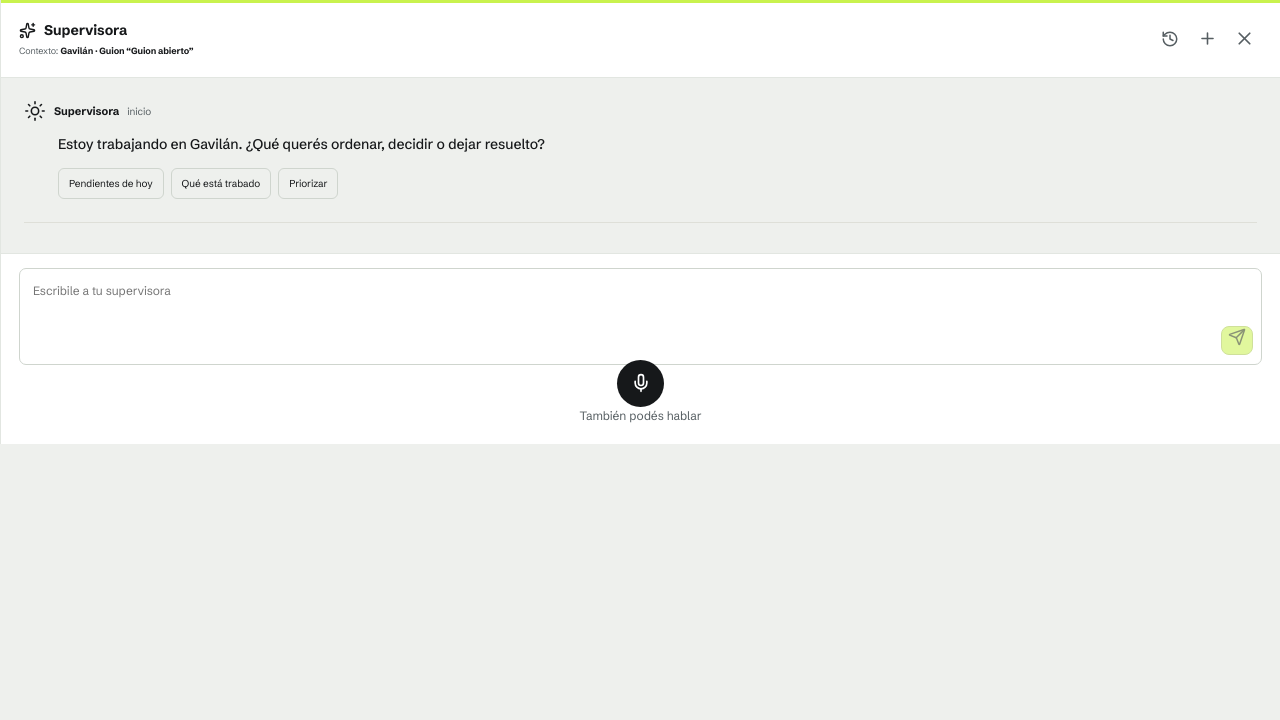
Scenario: AiDrawer chat contract › starts fresh by default and keeps Nueva conversación as a distinct thread
Type "Primera conversación" into the text box with test id "ai-input". click: (640, 313)
box: left=20, top=269, right=1261, bottom=357
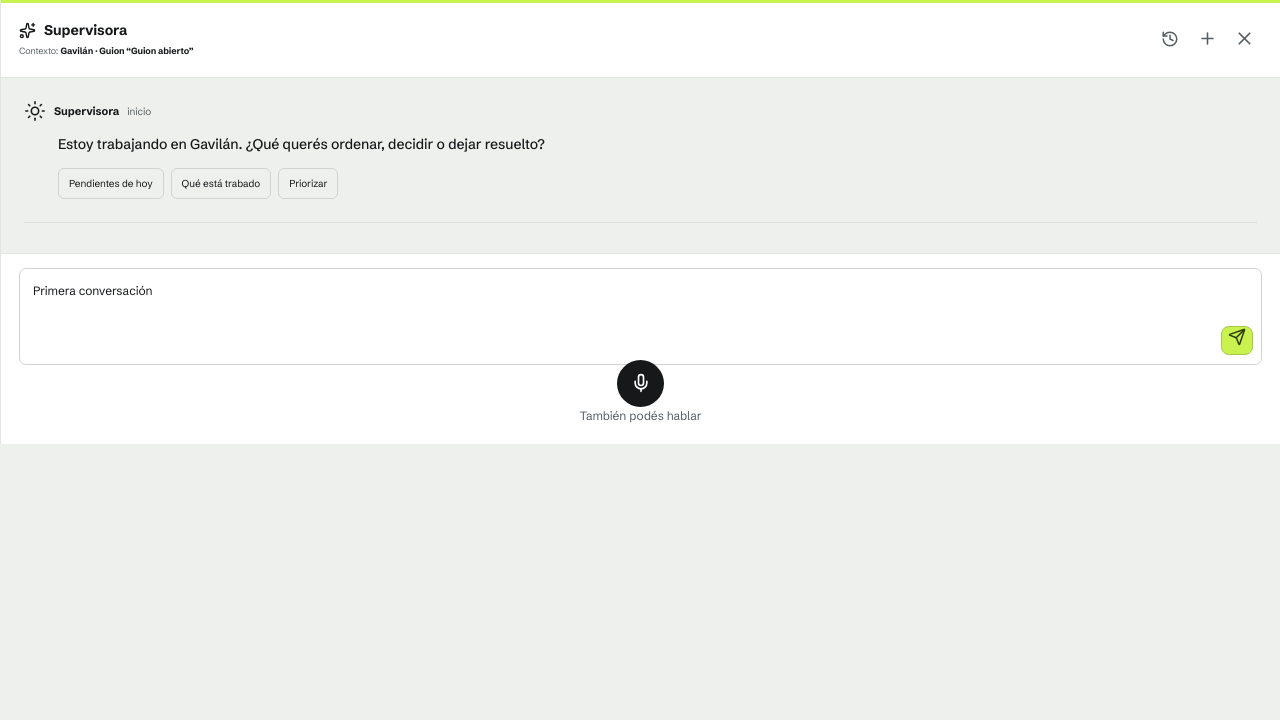
Click the button with test id "ai-send". click: click(1237, 341)
box: left=1221, top=326, right=1253, bottom=355
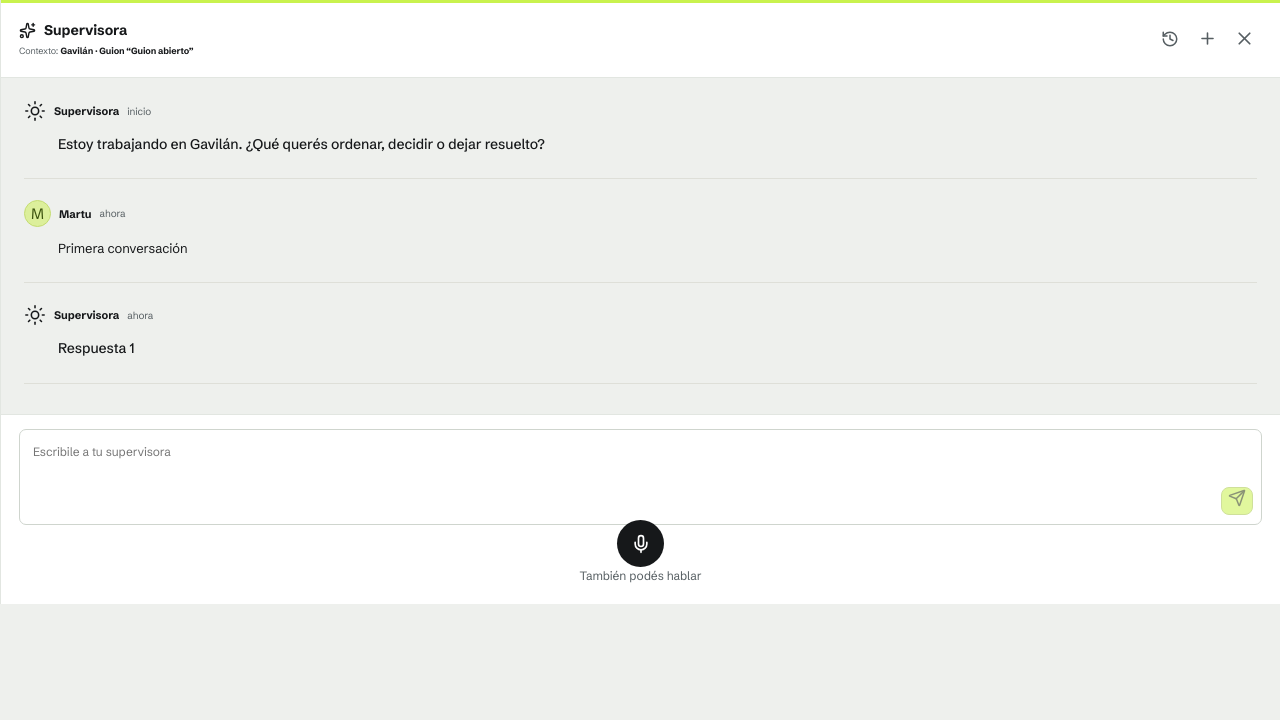
Expected: the text "Respuesta 1" is shown, left=58, top=339, right=135, bottom=357
Click the button named "Nueva conversación". click: click(1207, 38)
box: left=1189, top=20, right=1225, bottom=56
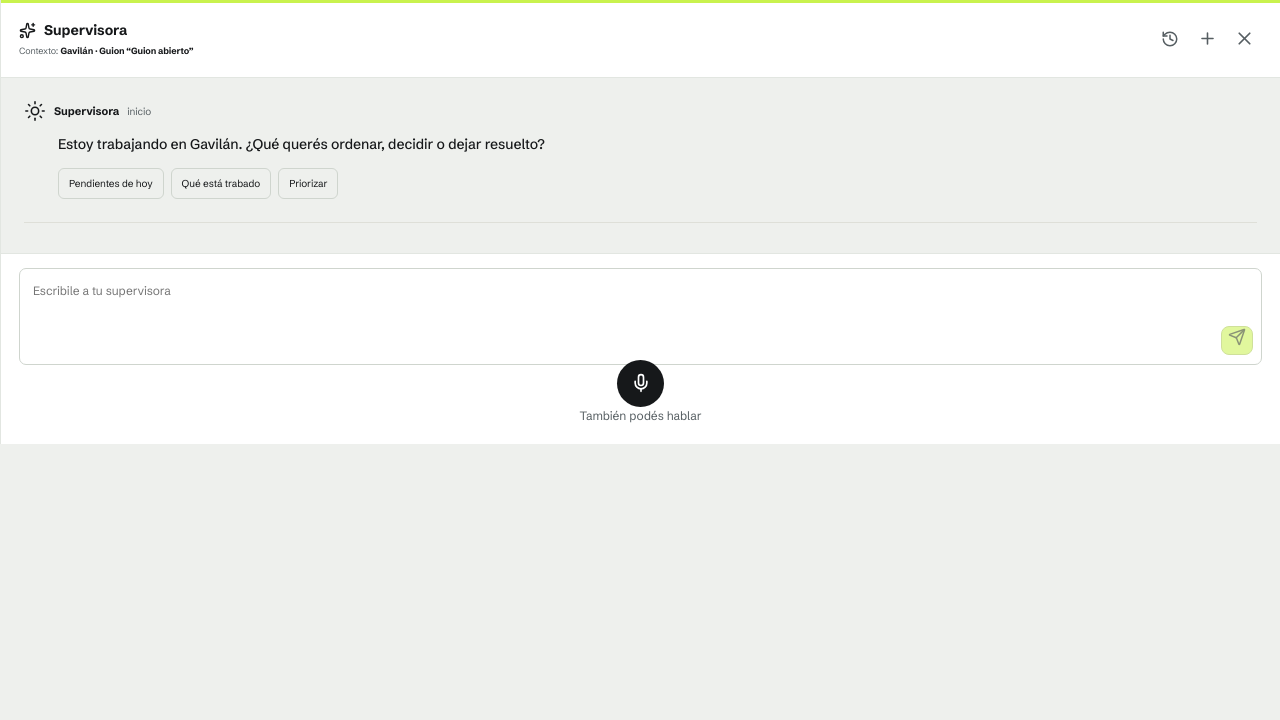
Type "Segunda conversación" into the text box with test id "ai-input". click: (640, 313)
box: left=20, top=269, right=1261, bottom=357
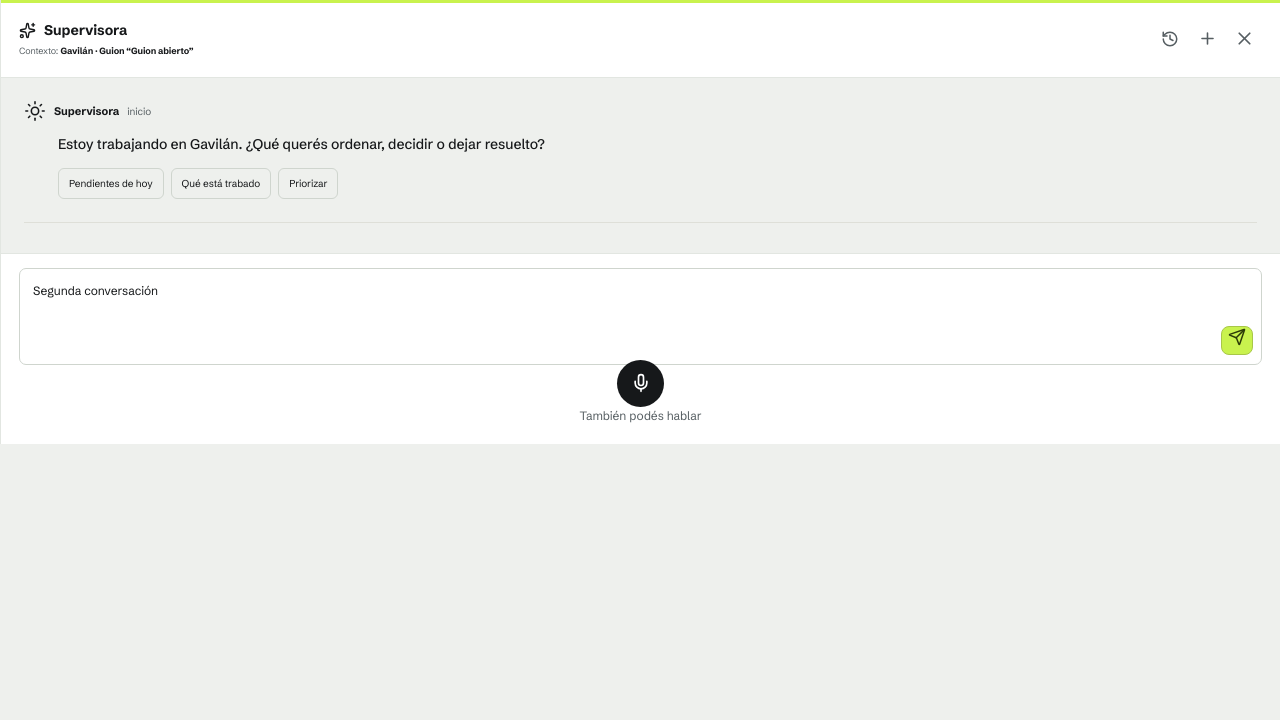
Click the button with test id "ai-send". click: click(1237, 341)
box: left=1221, top=326, right=1253, bottom=355
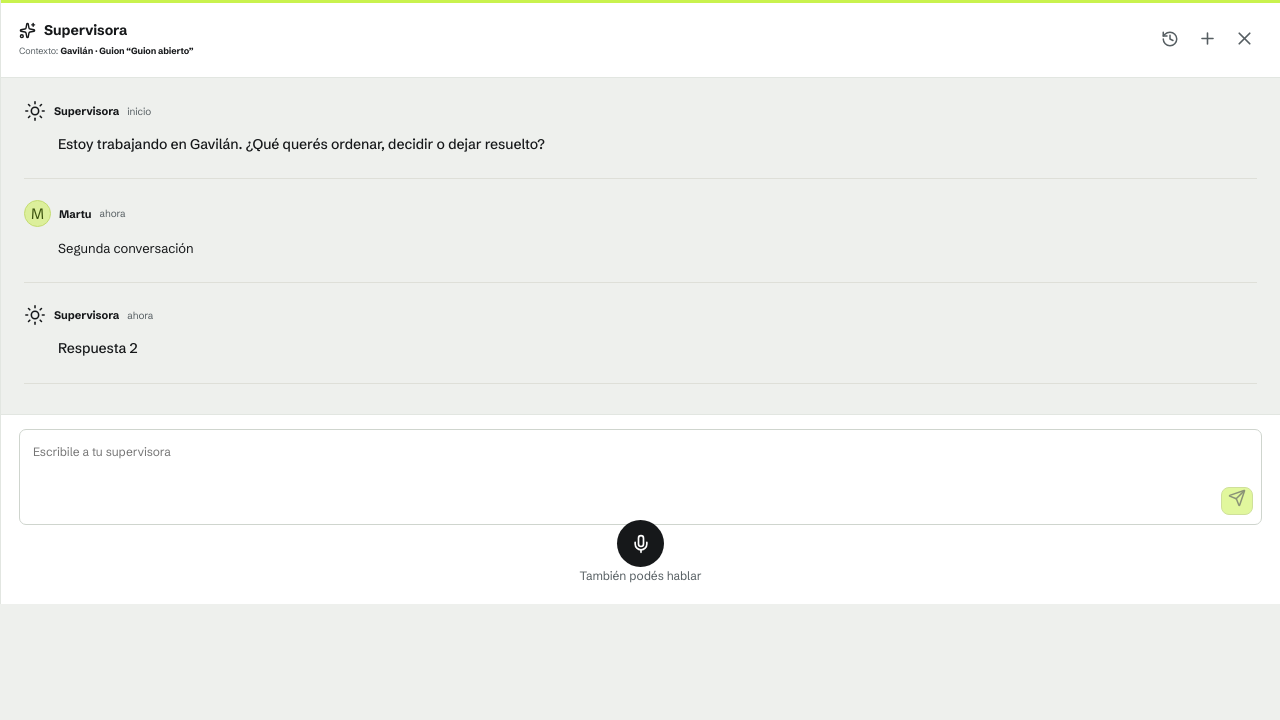
Expected: the text "Respuesta 2" is shown, left=58, top=339, right=138, bottom=357
